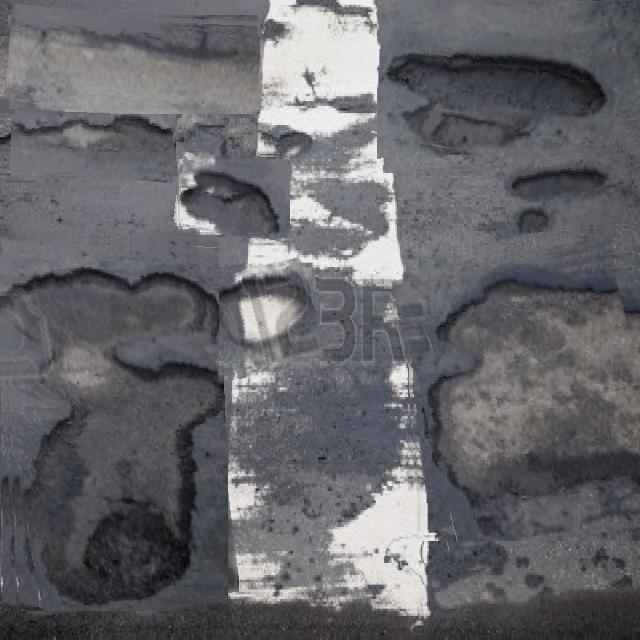Pothole: (0, 233, 228, 611), (404, 245, 640, 541), (377, 1, 635, 174), (6, 10, 260, 114), (11, 107, 177, 180), (219, 262, 319, 375), (504, 153, 634, 232), (175, 152, 290, 238)
